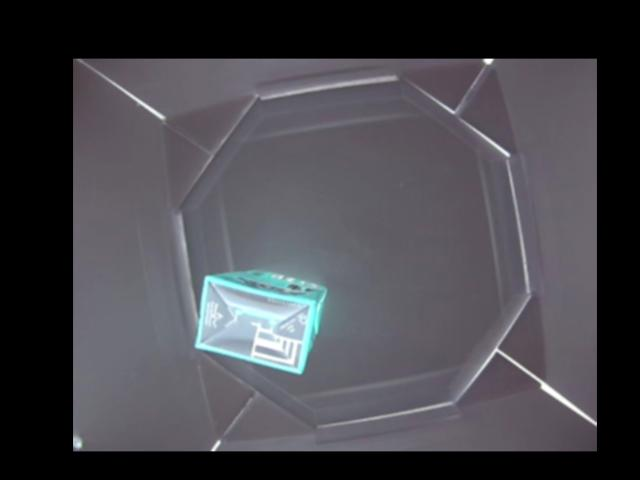Bottle: (193, 268, 325, 372)
